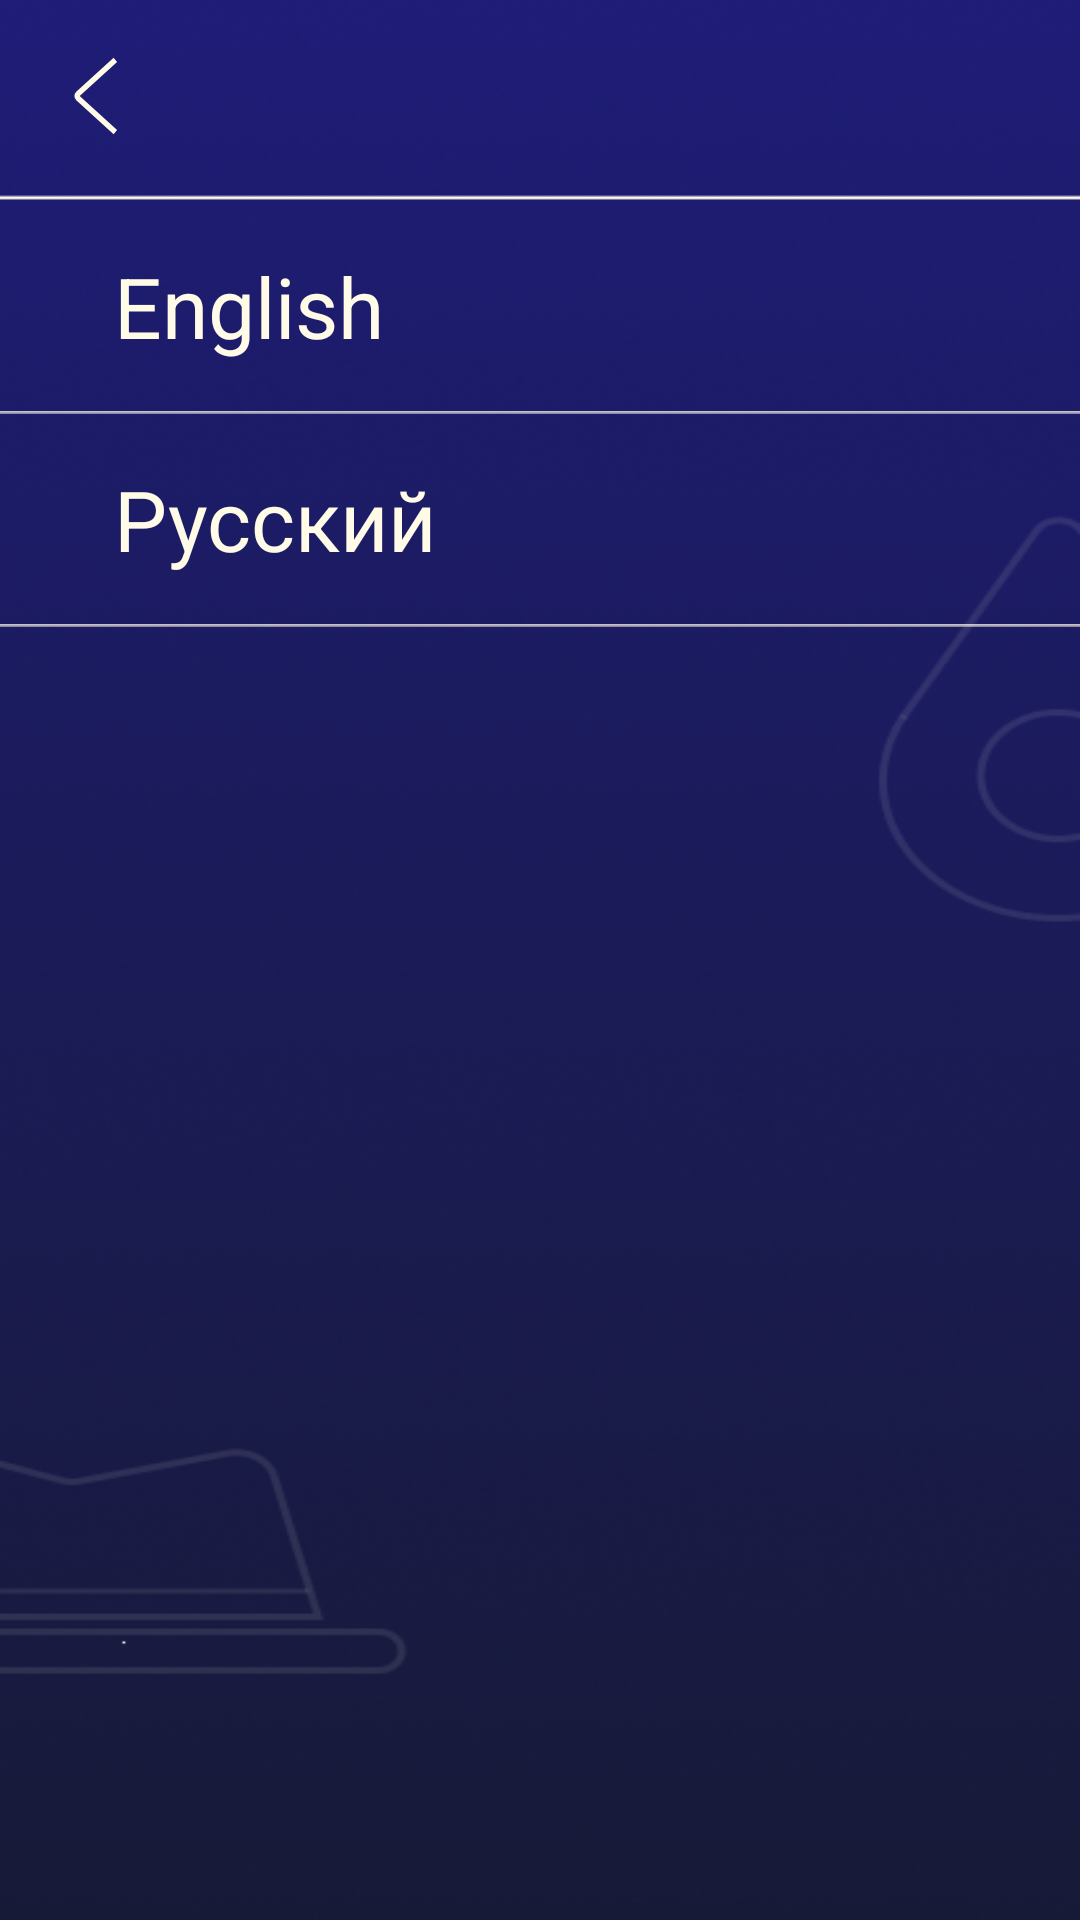

Screen size 1080 x 1920. Icon name, then its box in pixels as (x1, y1, x2, y2):
back: (74, 58, 117, 134)
